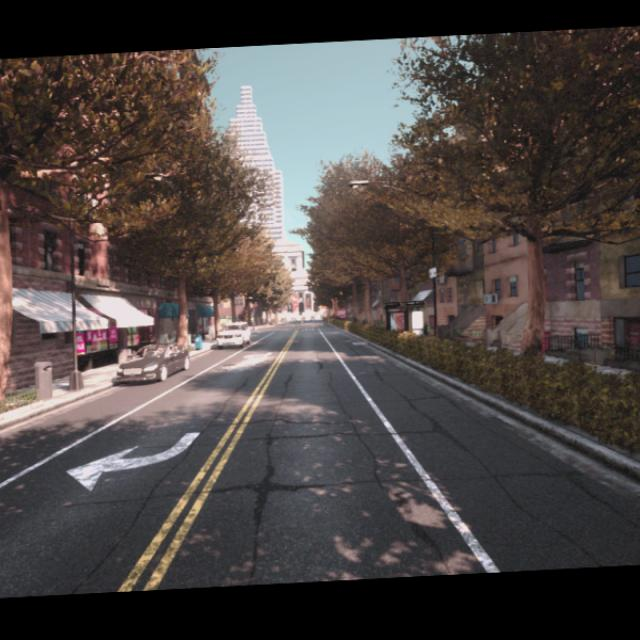stop sign: (335, 308, 349, 320)
